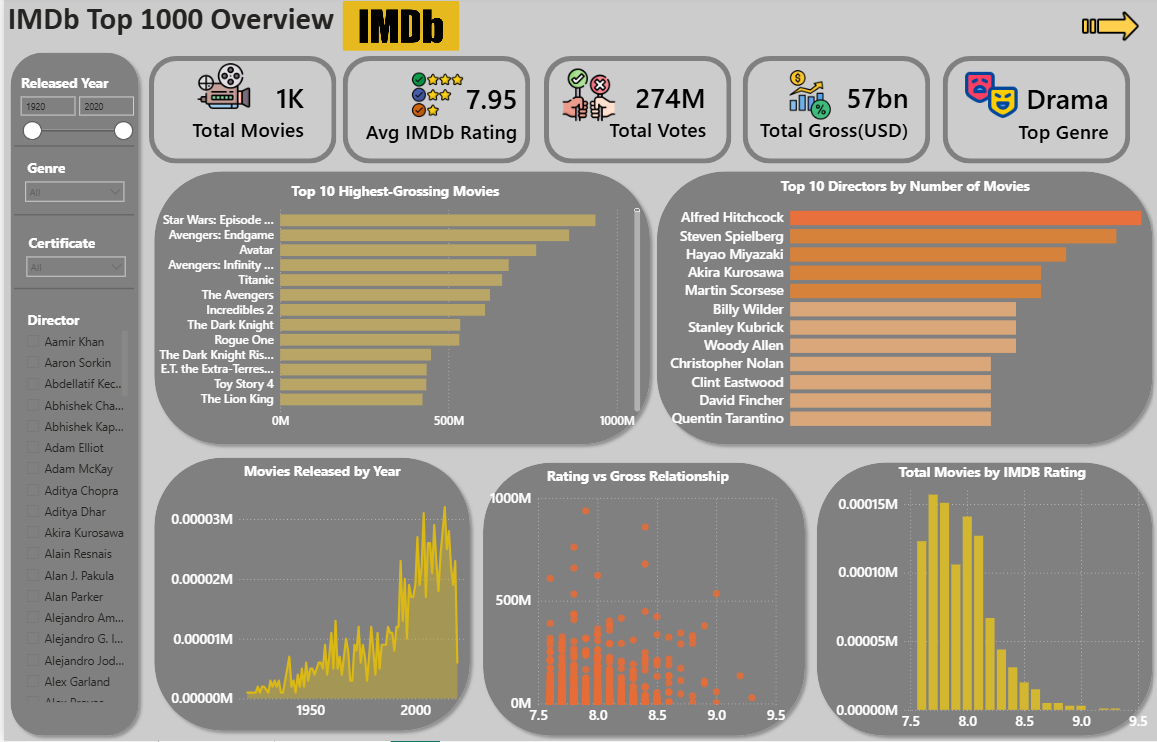

This screenshot's page, from the dashboard's own definition file:
{"tool":"powerbi","page":{"name":"Analysis 1","canvas":[1580,1020],"ordinal":0},"visuals":[{"type":"textbox","box":[0,0,528.3,68.6],"z":0},{"type":"image","box":[463.2,6.8,158.9,68.4],"z":1000},{"type":"shape","box":[0,68.4,193.1,952],"z":2000},{"type":"cardVisual","fields":{"Data":["DAX.Total Movies"]},"box":[287.1,75.2,167.5,162.4],"z":3000},{"type":"shape","box":[198.3,82,256.4,147],"z":4000},{"type":"shape","box":[1283.6,82,256.4,147],"z":5000},{"type":"shape","box":[1010.1,82,256.4,147],"z":6000},{"type":"shape","box":[738.3,82,256.4,147],"z":7000},{"type":"shape","box":[463.2,82,256.4,147],"z":8000},{"type":"cardVisual","fields":{"Data":["DAX.Total Movies"]},"box":[211.9,83.7,227.3,145.3],"z":9000},{"type":"cardVisual","fields":{"Data":["Min(imdb_top_1000.Genre)"]},"box":[1350.2,85.5,189.7,145.3],"z":10000},{"type":"cardVisual","fields":{"Data":["DAX.Total Gross"]},"box":[864.8,83.7,401.6,145.3],"z":11000},{"type":"cardVisual","fields":{"Data":["DAX.Total Votes"]},"box":[587.9,83.7,401.6,145.3],"z":12000},{"type":"cardVisual","fields":{"Data":["DAX.Avg IMDb Rating"]},"box":[451.2,85.5,280.3,145.3],"z":13000},{"type":"image","box":[235.9,87.2,129.9,71.8],"z":14000},{"type":"image","box":[528.1,99.1,129.9,71.8],"z":15000},{"type":"image","box":[1285.3,99.1,129.9,71.8],"z":16000},{"type":"image","box":[734.9,99.1,129.9,71.8],"z":17000},{"type":"image","box":[1037.4,99.1,129.9,71.8],"z":18000},{"type":"shape","box":[196.5,230.7,695.6,391.4],"z":19000},{"type":"shape","box":[883.6,230.7,695.6,391.4],"z":20000},{"type":"shape","box":[196.5,622.1,449.5,391.4],"z":21000},{"type":"shape","box":[646,629,458,391.4],"z":22000},{"type":"shape","box":[1102.4,629,476.8,391.4],"z":23000},{"type":"barChart","title":"Top 10 Highest-Grossing Movies","fields":{"Category":["imdb_top_1000.Series_Title"],"Y":["Sum(imdb_top_1000.Gross)"]},"box":[194.8,253,680.2,350.4],"z":24000},{"type":"clusteredBarChart","title":"Top 10 Directors by Number of Movies","fields":{"Category":["imdb_top_1000.Director"],"Y":["DAX.Total Movies"]},"box":[904.1,246.1,656.3,357.2],"z":25000},{"type":"areaChart","title":"Movies Released by Year","fields":{"Category":["imdb_top_1000.Released_Year"],"Y":["DAX.Total Movies"]},"box":[223.9,635.8,422.2,364],"z":26000},{"type":"scatterChart","title":"Rating vs Gross Relationship","fields":{"X":["imdb_top_1000.IMDB_Rating"],"Y":["imdb_top_1000.Gross"]},"box":[659.7,642.6,413.6,364],"z":27000},{"type":"clusteredColumnChart","title":"Total Movies by IMDB Rating","fields":{"Category":["imdb_top_1000.IMDB_Rating"],"Y":["DAX.Total Movies"]},"box":[1133.1,637.5,435.8,377.7],"z":28000},{"type":"slicer","fields":{"Values":["imdb_top_1000.Released_Year"]},"box":[10.3,100.8,174.3,165.8],"z":29000},{"type":"slicer","fields":{"Values":["imdb_top_1000.Genre"]},"box":[18.8,217.1,155.5,73.5],"z":30000},{"type":"slicer","fields":{"Values":["imdb_top_1000.Certificate"]},"box":[20.5,319.6,155.5,80.3],"z":31000},{"type":"slicer","fields":{"Values":["imdb_top_1000.Director"]},"box":[18.8,425.6,155.5,545.2],"z":32000},{"type":"shape","box":[13.7,184.6,164.1,41],"z":33000},{"type":"shape","box":[13.7,278.6,164.1,41],"z":34000},{"type":"shape","box":[13.7,379.4,164.1,41],"z":35000},{"type":"image","box":[1445.9,0,133.3,82],"z":36000}]}

Visuals, with their boxes in screenshot pixels (x1, y1, x2, y2), scaled from the page's 1580x1020 canvas onto the 1157x742 screenshot:
textbox: pyautogui.locateOnScreen(0, 0, 387, 50)
image: pyautogui.locateOnScreen(339, 5, 456, 55)
shape: pyautogui.locateOnScreen(0, 50, 141, 741)
cardVisual - DAX.Total Movies: pyautogui.locateOnScreen(210, 55, 333, 173)
shape: pyautogui.locateOnScreen(145, 60, 333, 167)
shape: pyautogui.locateOnScreen(940, 60, 1128, 167)
shape: pyautogui.locateOnScreen(740, 60, 927, 167)
shape: pyautogui.locateOnScreen(541, 60, 728, 167)
shape: pyautogui.locateOnScreen(339, 60, 527, 167)
cardVisual - DAX.Total Movies: pyautogui.locateOnScreen(155, 61, 322, 167)
cardVisual - Min(imdb_top_1000.Genre): pyautogui.locateOnScreen(989, 62, 1128, 168)
cardVisual - DAX.Total Gross: pyautogui.locateOnScreen(633, 61, 927, 167)
cardVisual - DAX.Total Votes: pyautogui.locateOnScreen(431, 61, 725, 167)
cardVisual - DAX.Avg IMDb Rating: pyautogui.locateOnScreen(330, 62, 536, 168)
image: pyautogui.locateOnScreen(173, 63, 268, 116)
image: pyautogui.locateOnScreen(387, 72, 482, 124)
image: pyautogui.locateOnScreen(941, 72, 1036, 124)
image: pyautogui.locateOnScreen(538, 72, 633, 124)
image: pyautogui.locateOnScreen(760, 72, 855, 124)
shape: pyautogui.locateOnScreen(144, 168, 653, 453)
shape: pyautogui.locateOnScreen(647, 168, 1156, 453)
shape: pyautogui.locateOnScreen(144, 453, 473, 737)
shape: pyautogui.locateOnScreen(473, 458, 808, 741)
shape: pyautogui.locateOnScreen(807, 458, 1156, 741)
"Top 10 Highest-Grossing Movies" barChart: pyautogui.locateOnScreen(143, 184, 641, 439)
"Top 10 Directors by Number of Movies" clusteredBarChart: pyautogui.locateOnScreen(662, 179, 1143, 439)
"Movies Released by Year" areaChart: pyautogui.locateOnScreen(164, 463, 473, 727)
"Rating vs Gross Relationship" scatterChart: pyautogui.locateOnScreen(483, 467, 786, 732)
"Total Movies by IMDB Rating" clusteredColumnChart: pyautogui.locateOnScreen(830, 464, 1149, 739)
slicer - imdb_top_1000.Released_Year: pyautogui.locateOnScreen(8, 73, 135, 194)
slicer - imdb_top_1000.Genre: pyautogui.locateOnScreen(14, 158, 128, 211)
slicer - imdb_top_1000.Certificate: pyautogui.locateOnScreen(15, 232, 129, 291)
slicer - imdb_top_1000.Director: pyautogui.locateOnScreen(14, 310, 128, 706)
shape: pyautogui.locateOnScreen(10, 134, 130, 164)
shape: pyautogui.locateOnScreen(10, 203, 130, 232)
shape: pyautogui.locateOnScreen(10, 276, 130, 306)
image: pyautogui.locateOnScreen(1059, 0, 1156, 60)
